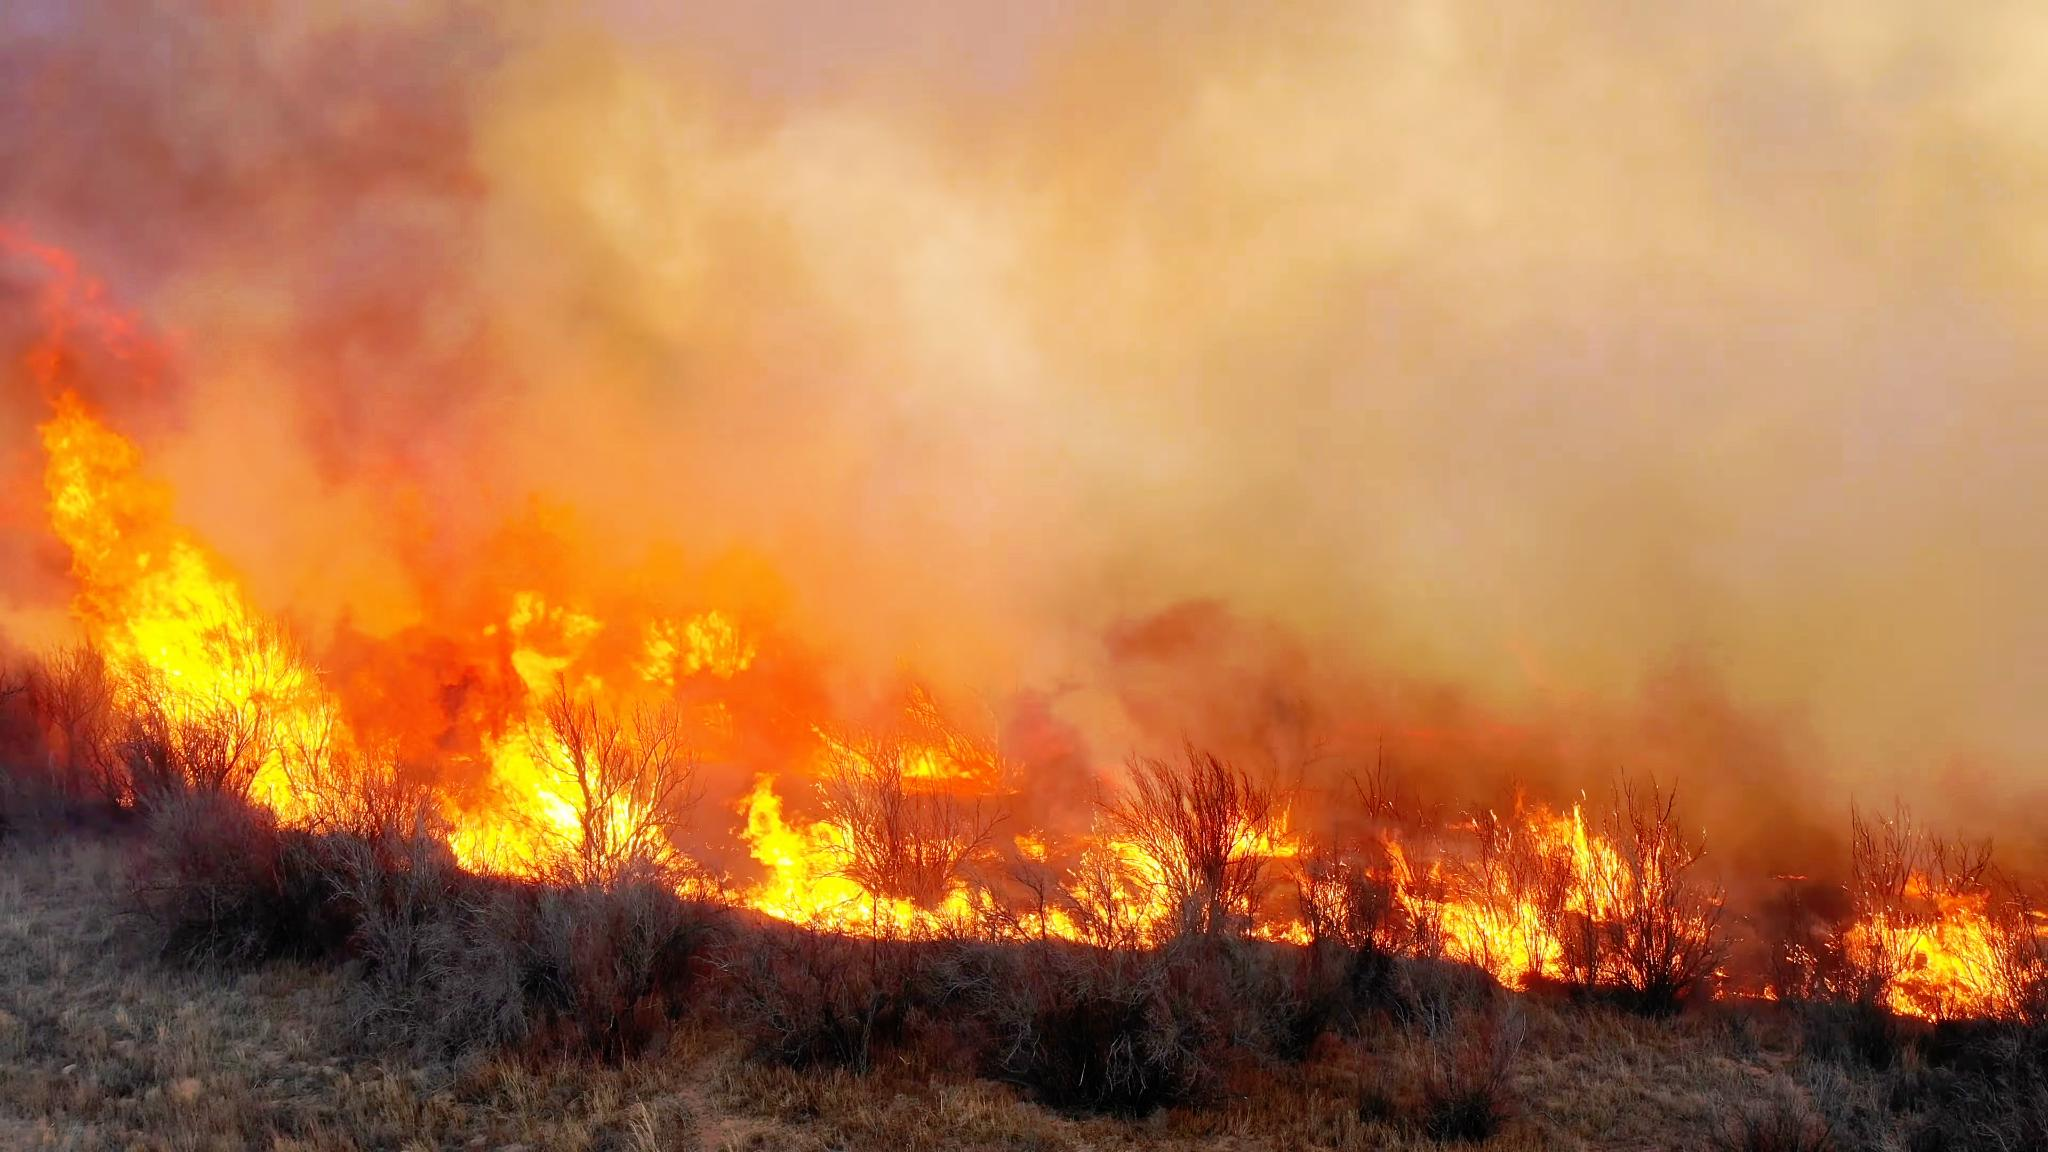fire: (0, 246, 309, 823), (738, 774, 1189, 933), (463, 625, 643, 888), (1422, 812, 1622, 994), (1883, 850, 2048, 1011)
smoke: (437, 0, 2048, 366)
